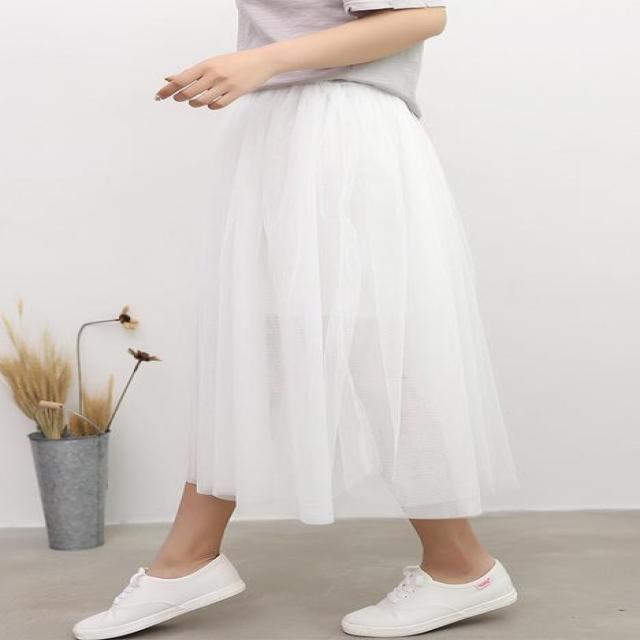skirt: (186, 76, 509, 521)
